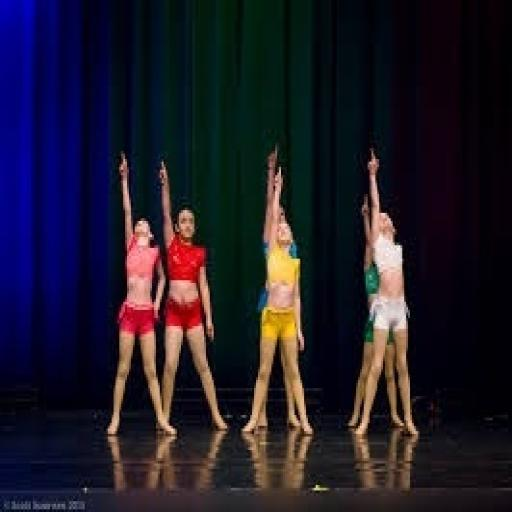dancing: (238, 143, 318, 442), (104, 148, 179, 442), (348, 145, 422, 442), (154, 156, 231, 440)
